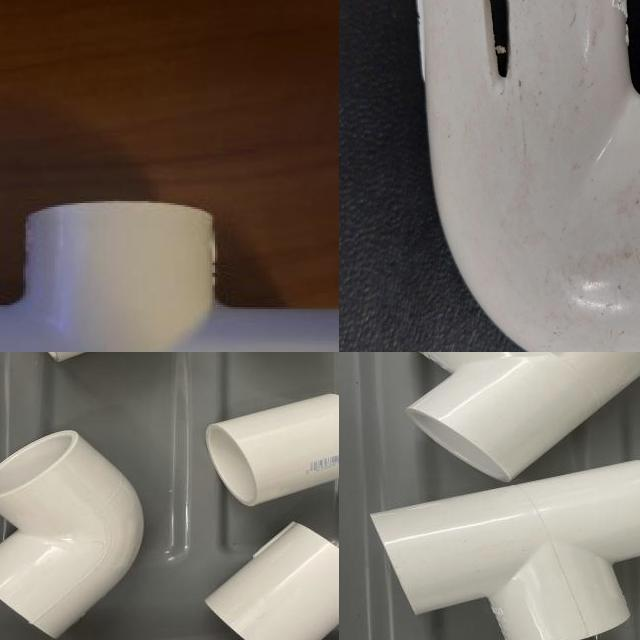Defective: (562, 6, 604, 128)
L Joint: (344, 0, 640, 352), (0, 430, 147, 640)
T Joint: (0, 202, 339, 352), (370, 461, 640, 640), (404, 352, 640, 486)
